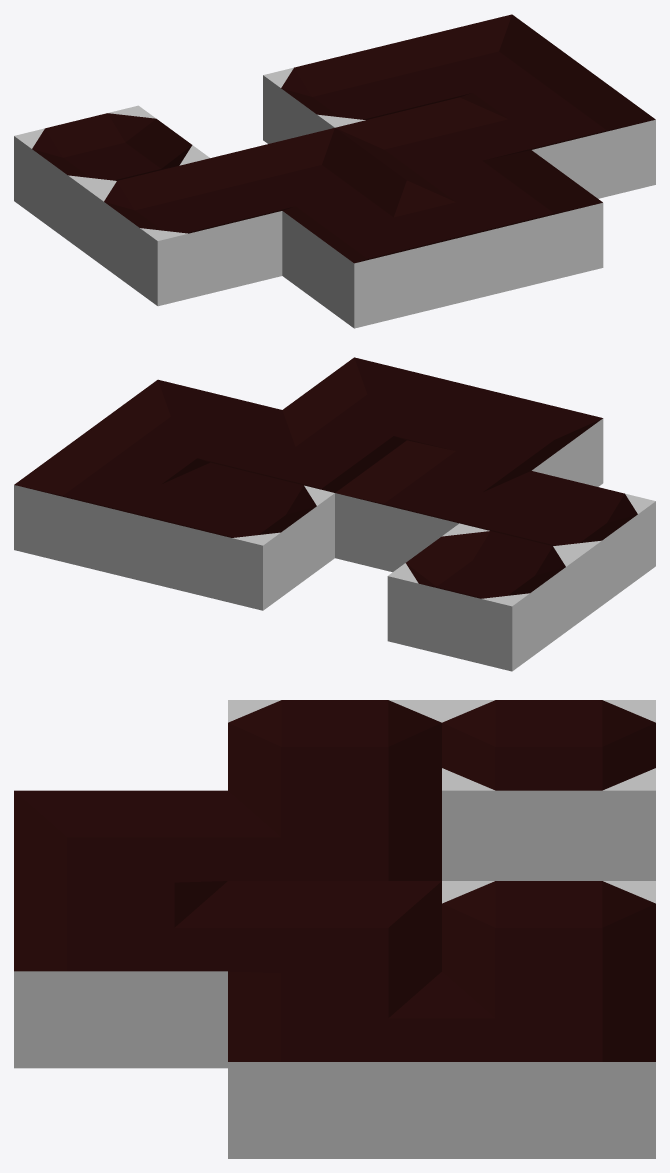
File: 31s_path.obj
3 views of the same model, one above another, from view 1: azimuth 30°, elevation 25°; view 2: azimuth 150°, elevation 25°; view 3: azimuth 270°, elevation 25° (orthographic). The views are drawn at different scales.
Visible parts, largest first — view 1: ending.1.3_ending.121, corner.2.2_corner.305, corner.3.2_corner.307, corner.4.3_corner.309, hole.1.4_Cube.062, corner.2.3_corner.306, corner.4.4_corner.310, ending.3.4_ending.122, corner.3.3_corner.308; view 2: hole.1.4_Cube.062, ending.3.4_ending.122, corner.4.4_corner.310, corner.2.3_corner.306, ending.1.3_ending.121, corner.2.2_corner.305, corner.4.3_corner.309, corner.3.2_corner.307, corner.3.3_corner.308; view 3: hole.1.4_Cube.062, corner.3.2_corner.307, corner.4.3_corner.309, corner.4.4_corner.310, corner.2.2_corner.305, ending.1.3_ending.121, corner.3.3_corner.308, ending.3.4_ending.122, corner.2.3_corner.306.
Part boxes in pixels (x1,y1,x2,y2): ending.1.3_ending.121: [86, 158, 282, 306]; corner.2.2_corner.305: [282, 180, 478, 328]; corner.3.2_corner.307: [407, 150, 603, 297]; corner.4.3_corner.309: [459, 67, 655, 198]; hole.1.4_Cube.062: [14, 105, 209, 253]; corner.2.3_corner.306: [210, 128, 406, 219]; corner.4.4_corner.310: [388, 14, 583, 105]; ending.3.4_ending.122: [263, 45, 457, 143]; corner.3.3_corner.308: [335, 97, 530, 188]; hole.1.4_Cube.062: [387, 523, 583, 671]; ending.3.4_ending.122: [138, 462, 334, 610]; corner.4.4_corner.310: [14, 432, 209, 580]; corner.2.3_corner.306: [335, 440, 530, 572]; ending.1.3_ending.121: [461, 471, 655, 618]; corner.2.2_corner.305: [407, 388, 603, 486]; corner.4.3_corner.309: [86, 379, 281, 471]; corner.3.2_corner.307: [283, 357, 478, 448]; corner.3.3_corner.308: [214, 410, 405, 492]; hole.1.4_Cube.062: [442, 700, 655, 880]; corner.3.2_corner.307: [14, 881, 227, 1068]; corner.4.3_corner.309: [228, 971, 441, 1158]; corner.4.4_corner.310: [442, 971, 655, 1158]; corner.2.2_corner.305: [14, 790, 227, 905]; ending.1.3_ending.121: [228, 700, 441, 814]; corner.3.3_corner.308: [228, 881, 441, 995]; ending.3.4_ending.122: [442, 881, 655, 995]; corner.2.3_corner.306: [228, 790, 441, 880].
Bounding box in the file's own units: 8 × 1 × 6.
